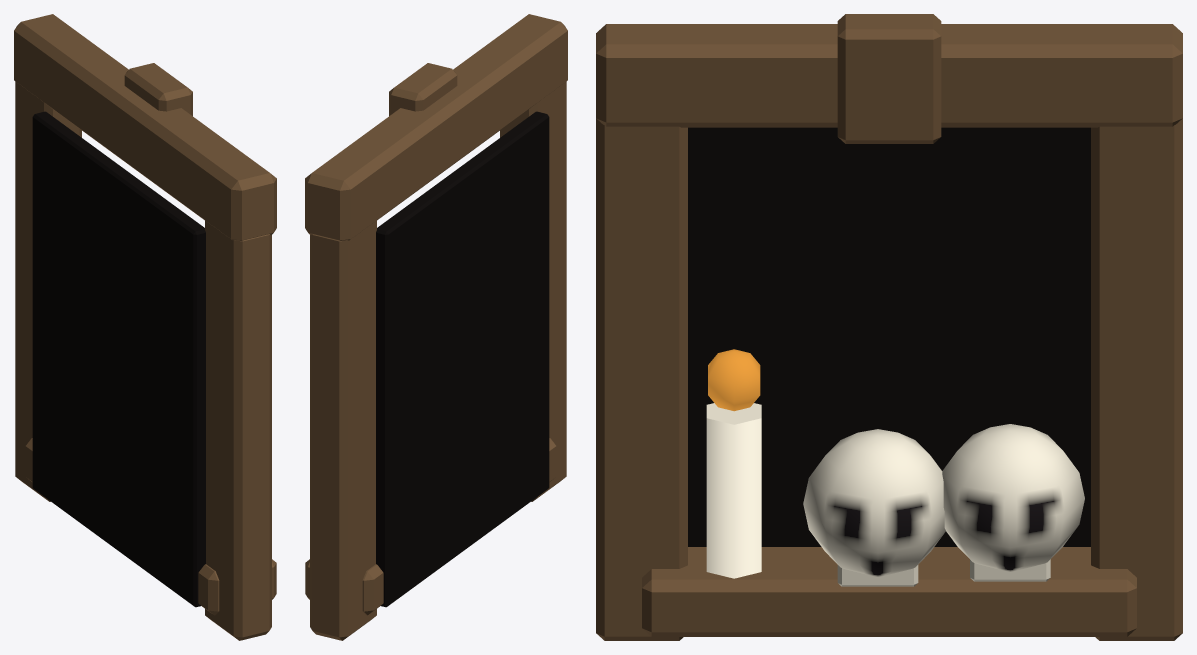
File: prop_niche0_441e.glb
3 views of the same model, side by side, from view 1: azimuth 30°, elevation 25°; view 2: azimuth 150°, elevation 25°; view 3: azimuth 270°, elevation 25° (orthographic). The views are drawn at different scales.
Visible parts, largest first — view 1: prop_niche0_441e; view 2: prop_niche0_441e; view 3: prop_niche0_441e.
Part boxes in pixels (<box>): prop_niche0_441e: <box>14,14,276,640</box>; prop_niche0_441e: <box>305,14,567,640</box>; prop_niche0_441e: <box>596,14,1182,640</box>.
Bounding box in the file's own units: 0.2298 × 1.05 × 0.9016.
Materials: 2 (2 with a texture image).
